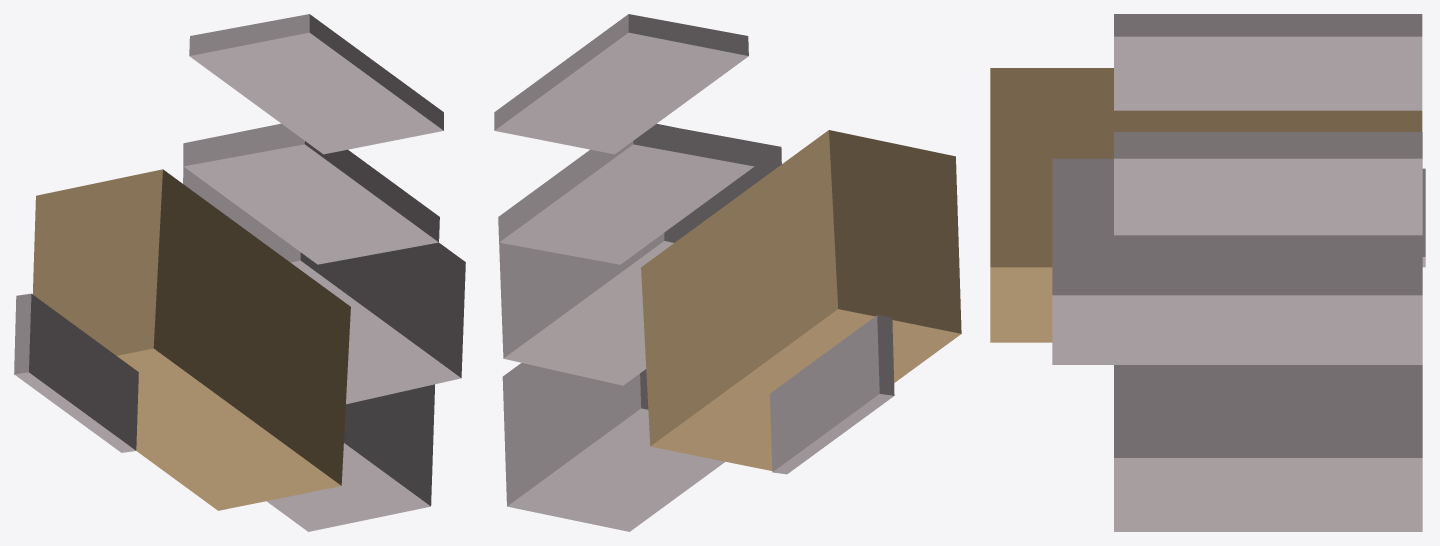
3 renders of one model, left to right at view 1: azimuth 30°, elevation 25°; view 2: azimuth 150°, elevation 25°; view 3: azimuth 270°, elevation 25°, orthographic. The views are drawn at different scales.
Visible parts, largest first — view 1: 0_2_1_3_0_0_3_1_2_2; view 2: 0_2_1_3_0_0_3_1_2_2; view 3: 0_2_1_3_0_0_3_1_2_2.
Boxes of the visible parts, bbox=[...] form: 0_2_1_3_0_0_3_1_2_2: bbox=[14, 14, 465, 531]; 0_2_1_3_0_0_3_1_2_2: bbox=[494, 14, 961, 531]; 0_2_1_3_0_0_3_1_2_2: bbox=[990, 14, 1425, 531].
Bounding box in the file's own units: 18.98 × 24.56 × 21.15.
